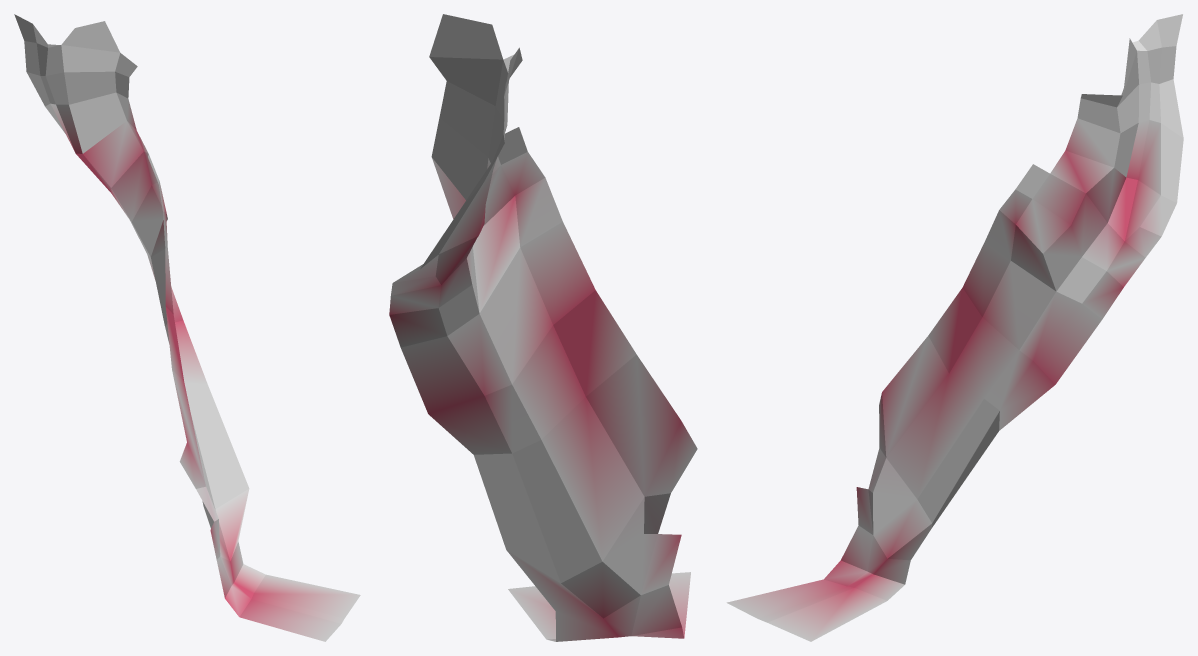
File: Lava Canal.fbx
3 views of the same model, side by side, from view 1: azimuth 30°, elevation 25°; view 2: azimuth 150°, elevation 25°; view 3: azimuth 270°, elevation 25° (orthographic). The views are drawn at different scales.
Parts seen in each view (by area): view 1: Retopo; view 2: Retopo; view 3: Retopo.
Boxes of the visible parts, <box> form: Retopo: <box>14,14,360,641</box>; Retopo: <box>389,14,697,641</box>; Retopo: <box>726,14,1183,641</box>.
Size of the model in its own units: 171 by 467 by 361.
